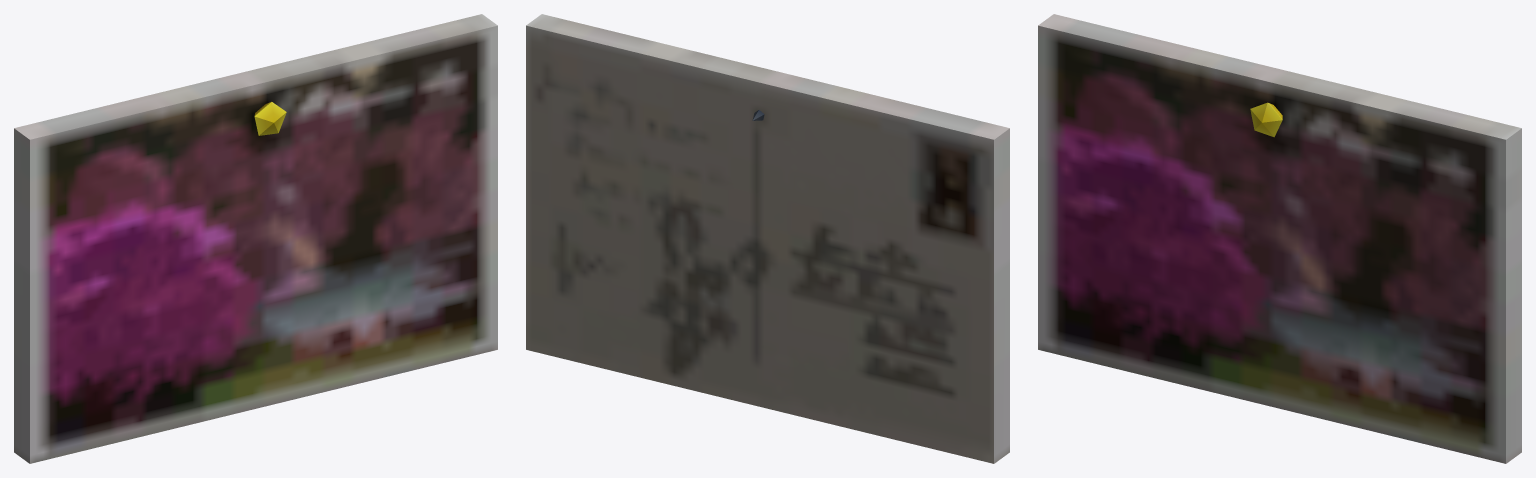
The model's file is postal6.3.fbx.
The picture shows the model from 3 angles, left to right: view 1: azimuth 30°, elevation 25°; view 2: azimuth 150°, elevation 25°; view 3: azimuth 330°, elevation 25°; orthographic projection.
Visible parts, largest first — view 1: s4studio_mesh_0; view 2: s4studio_mesh_0; view 3: s4studio_mesh_0.
Part boxes in pixels (left/top/right/bottom): s4studio_mesh_0: left=14, top=14, right=497, bottom=463; s4studio_mesh_0: left=526, top=14, right=1009, bottom=463; s4studio_mesh_0: left=1038, top=14, right=1521, bottom=463.
Size of the model in its own units: 24.03 by 15.9 by 2.99.
1 material, 1 textured.
